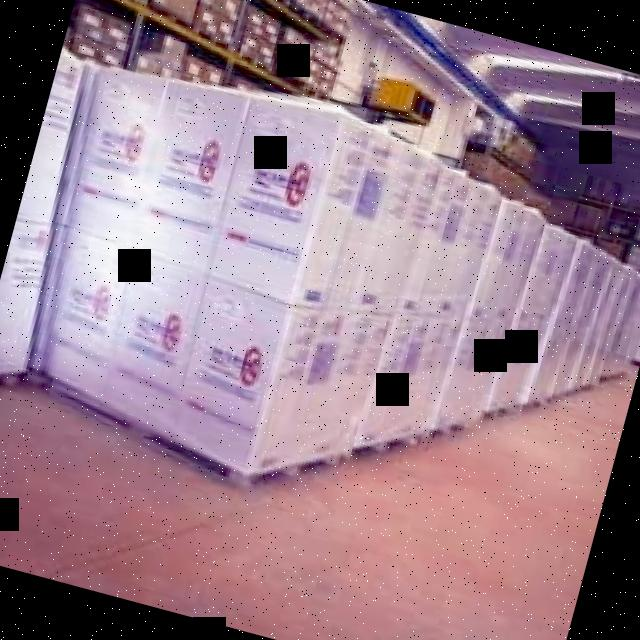box: (208, 95, 366, 303), (127, 71, 264, 272), (268, 294, 417, 475), (167, 284, 309, 471), (53, 60, 171, 247), (332, 151, 455, 315), (91, 260, 213, 422), (20, 230, 126, 385), (423, 193, 525, 333)
